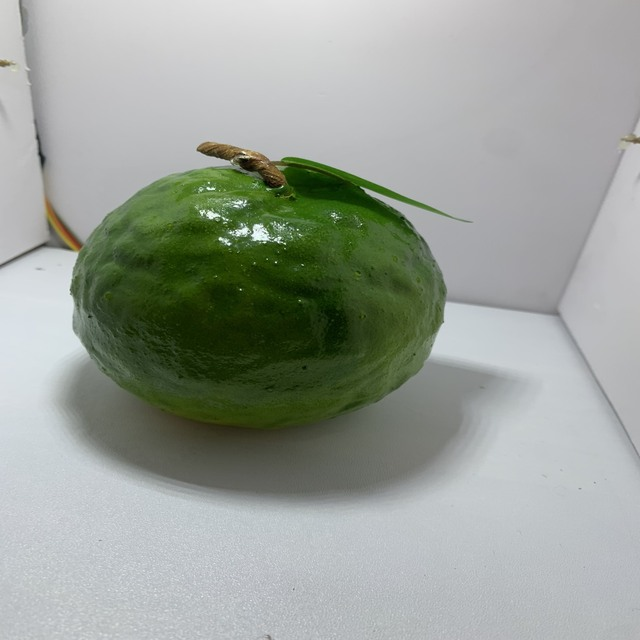Cam xanh: (57, 135, 466, 443)
